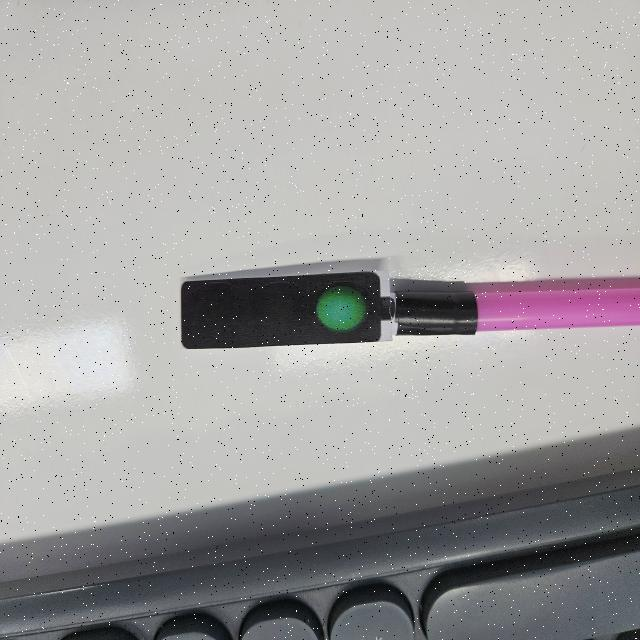traffic light: (179, 271, 394, 350)
